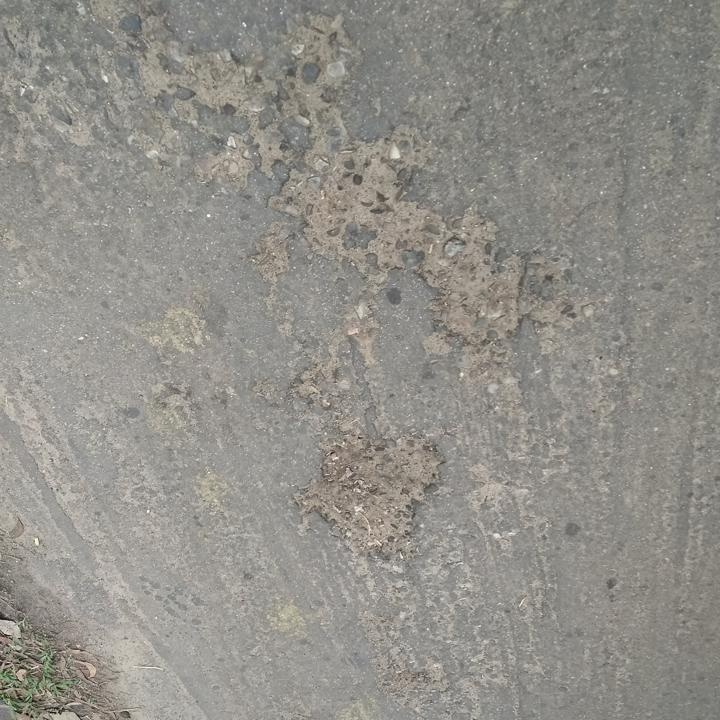pothole: (269, 136, 418, 284), (286, 425, 446, 562), (413, 210, 532, 354)
